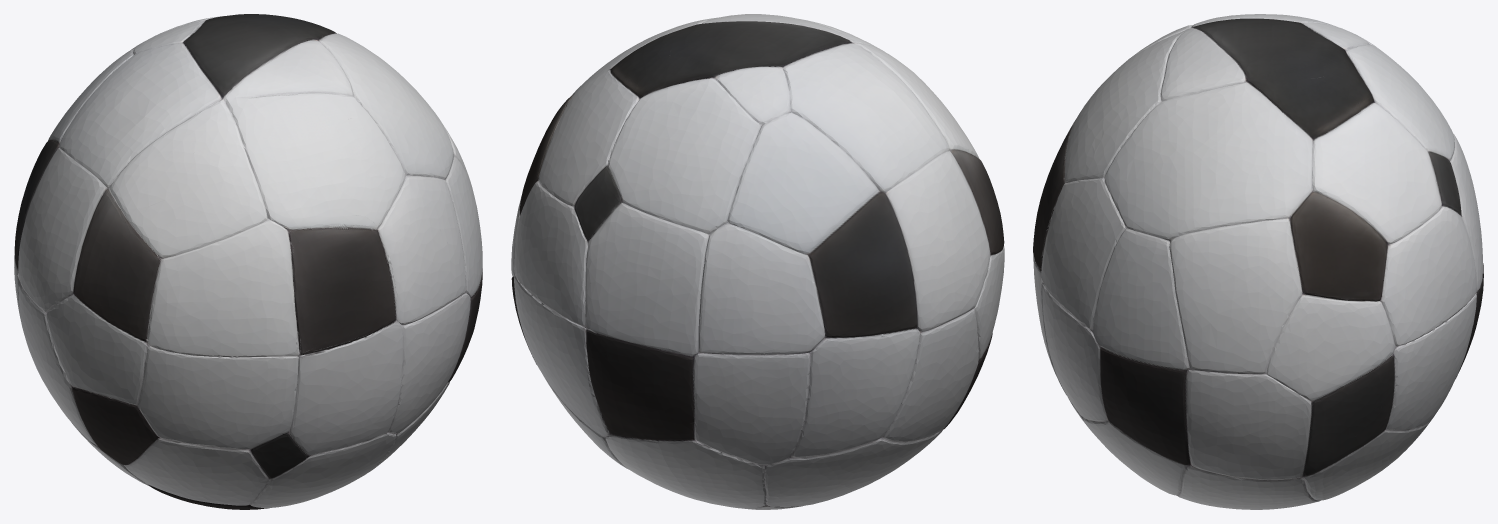
The model's file is ball.glb.
3 renders of one model, left to right at view 1: azimuth 30°, elevation 25°; view 2: azimuth 150°, elevation 25°; view 3: azimuth 270°, elevation 25°, orthographic. The views are drawn at different scales.
Visible parts, largest first — view 1: world; view 2: world; view 3: world.
Boxes of the visible parts, box(x1,y1,x2,y2) form: world: box(14, 14, 482, 509); world: box(511, 14, 1004, 509); world: box(1033, 14, 1483, 509).
Size of the model in its own units: 0.9271 by 0.9496 by 0.8615.
Materials: 1 (1 with a texture image).
